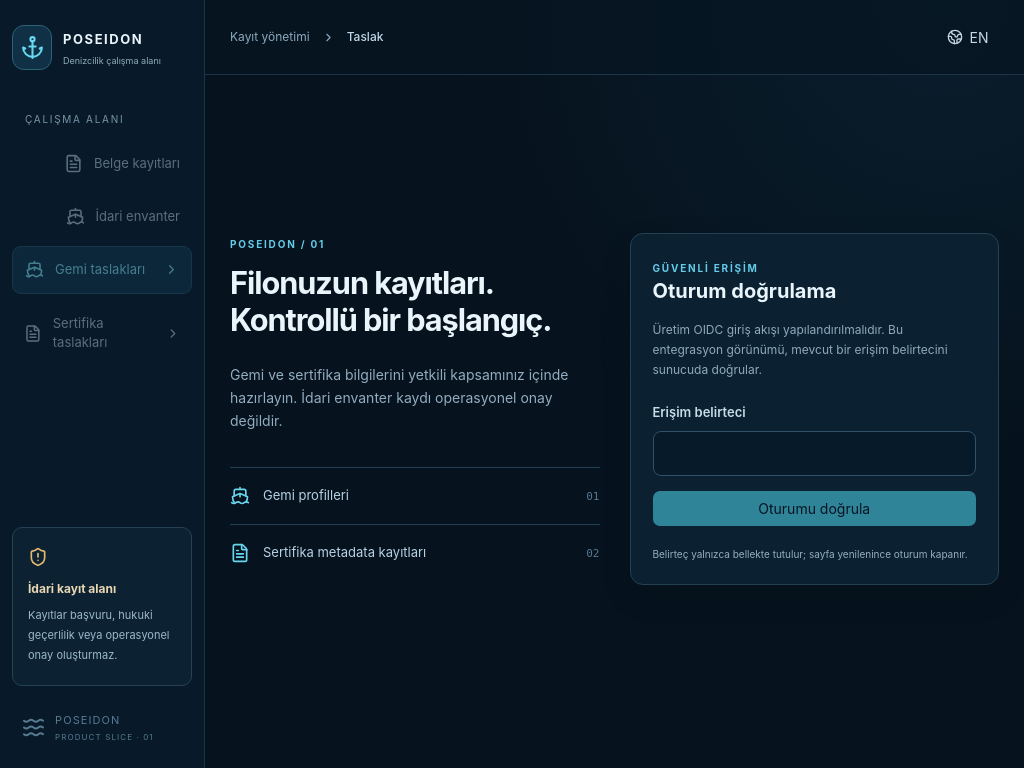
workspace interactions (jsdom, not browser certification) › switches language and document language accessibly
What coordinates should you click on to do the following:
click the button with aria-label "Switch to English"
I would click on:
 (968, 37)
Its box is [936,21,999,53].
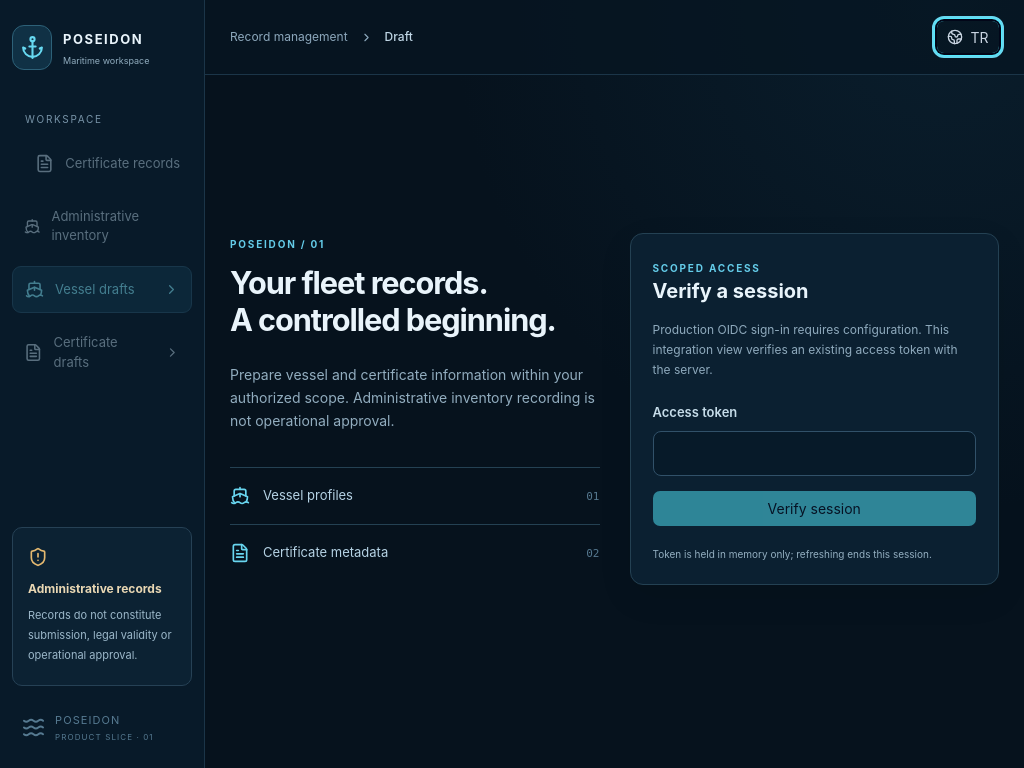
expect the heading "Verify a session" is shown: met, box [652,279,808,303]
